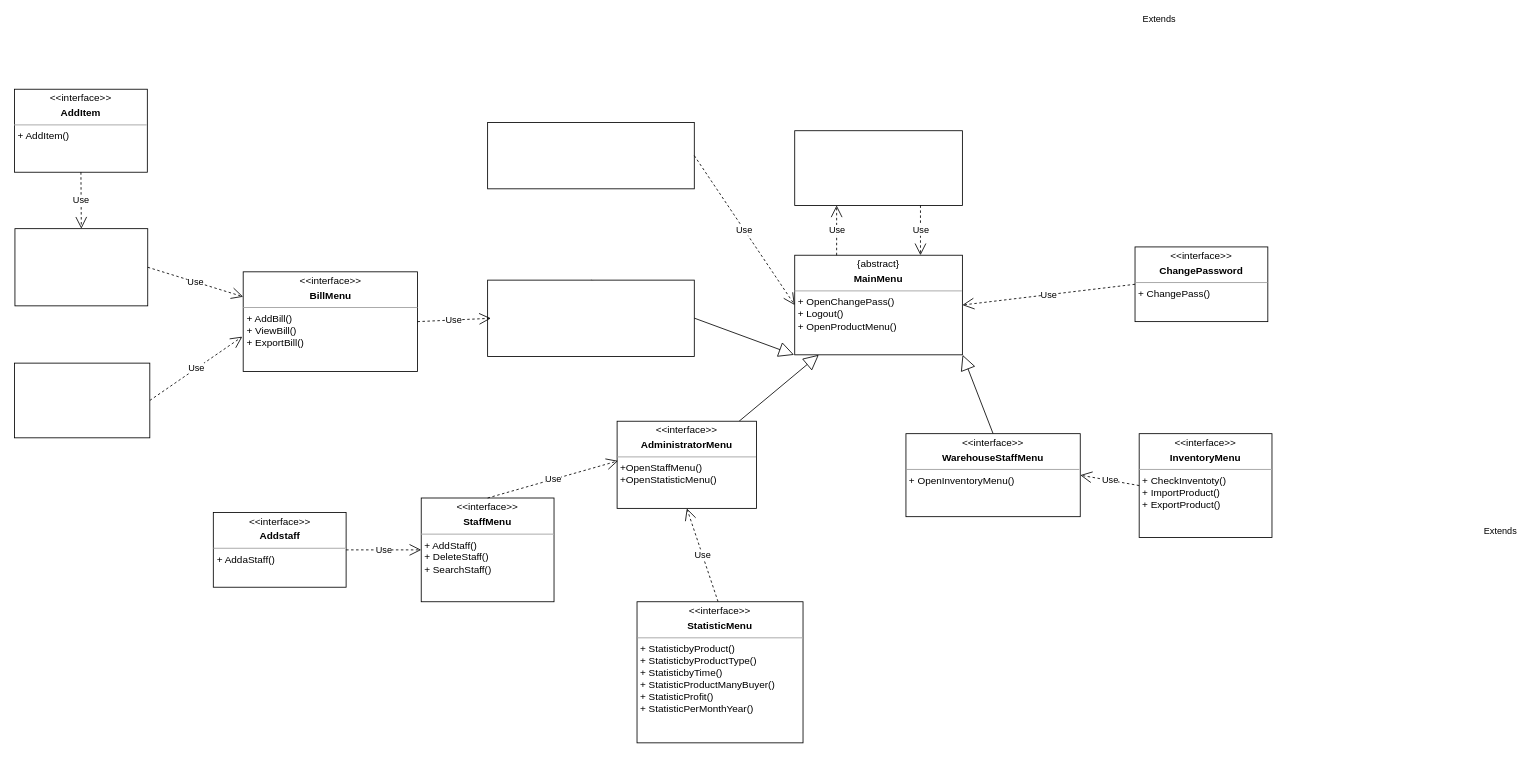
Some shapes in this 1531 by 758 pixel diagram are drawn without their labels. Each missing label, with the centre of its shape:
<<interface>> AddBill + AddItem() + AddBill(): [81,267]
<<interface>> Login + Login(): [878,167]
<<interface>> ProductMenu + SearchProduct(): [590,155]
<<interface>> StaffMenu + OpenMemberMenu() + OpenBillMenu(): [590,317]
«interface» DisplayBill + ViewBill() +ExportBill(): [82,400]
